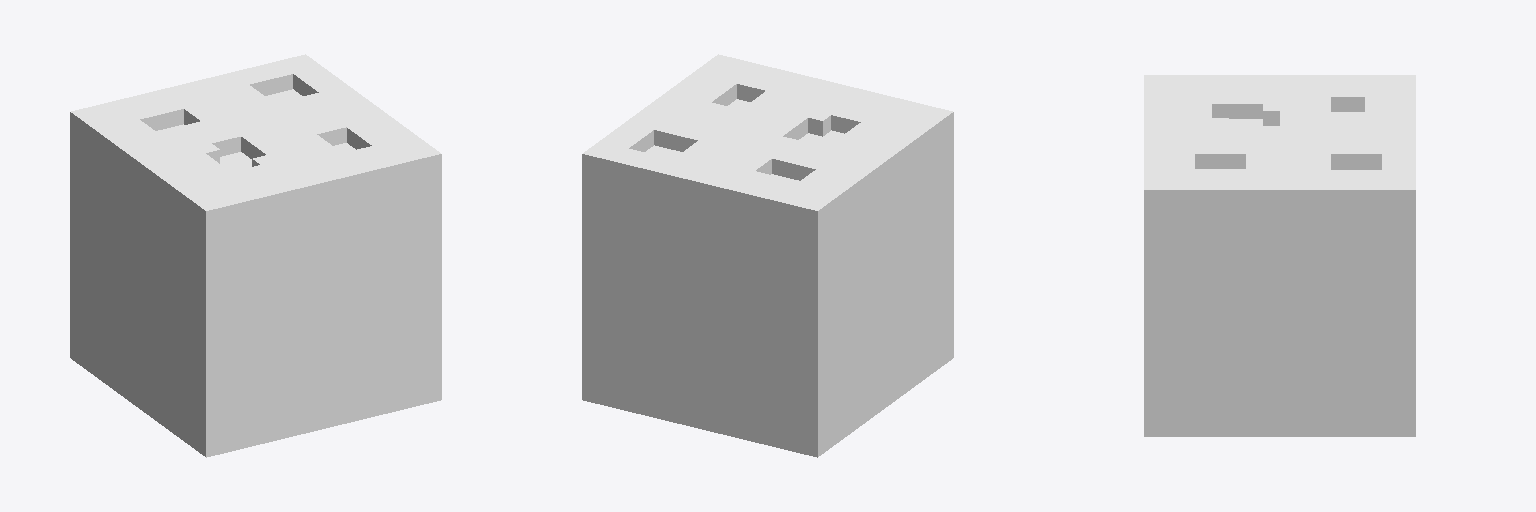
File: stoneCeiling.obj
The picture shows the model from 3 angles: view 1: azimuth 30°, elevation 25°; view 2: azimuth 150°, elevation 25°; view 3: azimuth 270°, elevation 25°; orthographic projection.
Size of the model in its own units: 16 by 16 by 16.